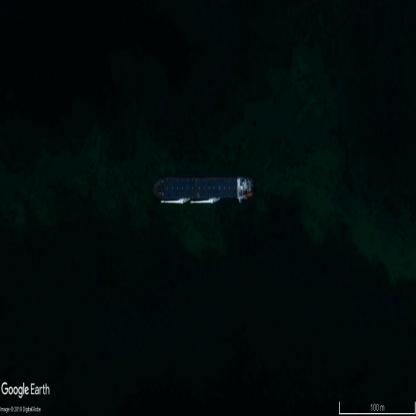ship: (154, 173, 254, 205)
